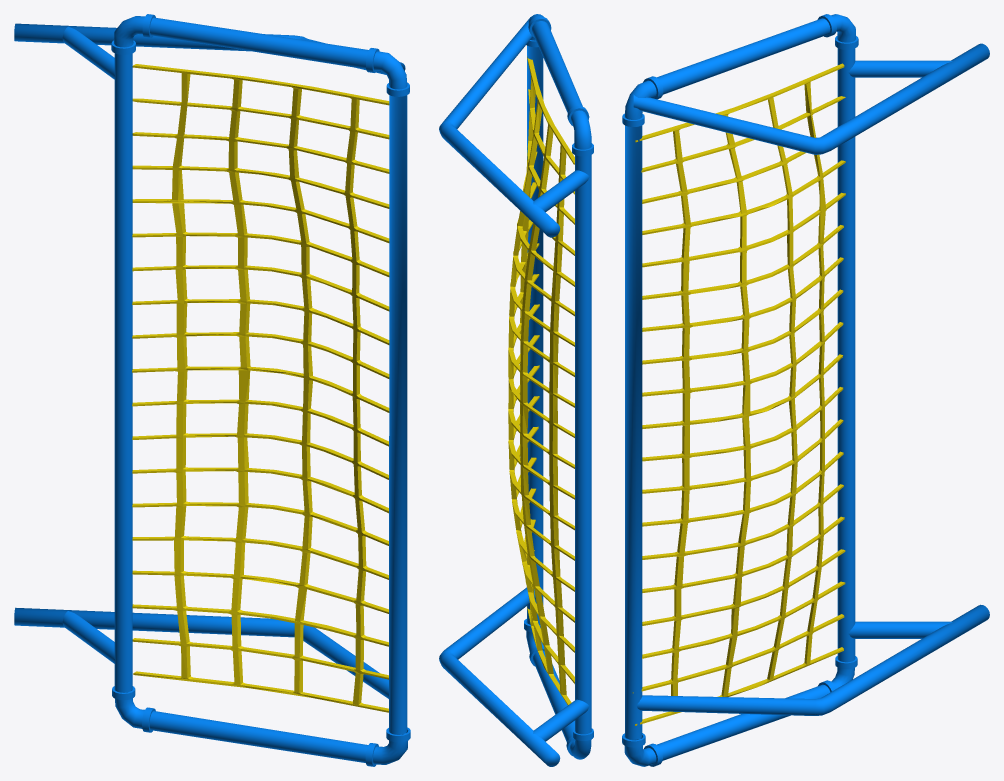
File: Safety_Nets_Tall_Blue.glb
3 views of the same model, side by side, from view 1: azimuth 30°, elevation 25°; view 2: azimuth 150°, elevation 25°; view 3: azimuth 270°, elevation 25° (orthographic). The views are drawn at different scales.
Parts seen in each view (by area): view 1: Safety_Nets_Tall_Blue; view 2: Safety_Nets_Tall_Blue; view 3: Safety_Nets_Tall_Blue.
Boxes of the visible parts, bbox=[...] form: Safety_Nets_Tall_Blue: bbox=[14, 14, 410, 766]; Safety_Nets_Tall_Blue: bbox=[439, 14, 593, 766]; Safety_Nets_Tall_Blue: bbox=[622, 14, 989, 766].
Size of the model in its own units: 2.52 by 7.95 by 3.85.
